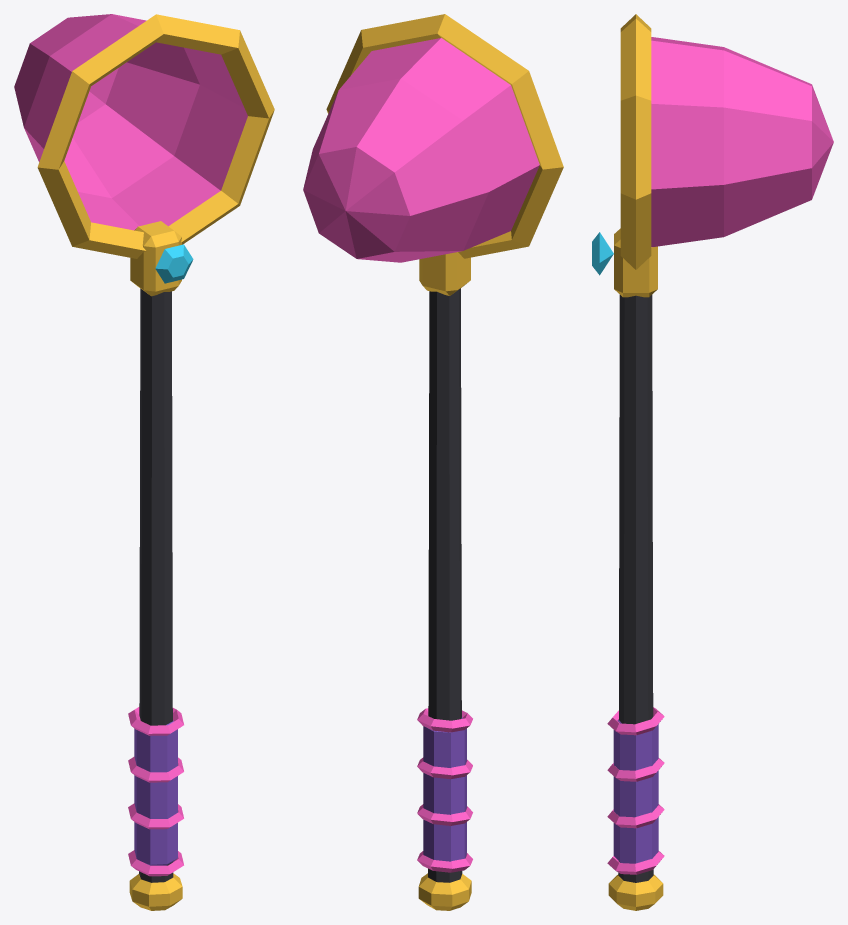
The model's file is RainbowBugNet.fbx.
3 renders of one model, left to right at view 1: azimuth 30°, elevation 25°; view 2: azimuth 150°, elevation 25°; view 3: azimuth 270°, elevation 25°, orthographic.
Visible parts, largest first — view 1: RainbowBugNet; view 2: RainbowBugNet; view 3: RainbowBugNet.
Part boxes in pixels (x1=…): RainbowBugNet: x1=14, y1=14, x2=274, y2=910; RainbowBugNet: x1=303, y1=14, x2=563, y2=910; RainbowBugNet: x1=592, y1=14, x2=833, y2=910.
Size of the model in its own units: 1.24 by 4.44 by 1.1.
1 material, 1 textured.
